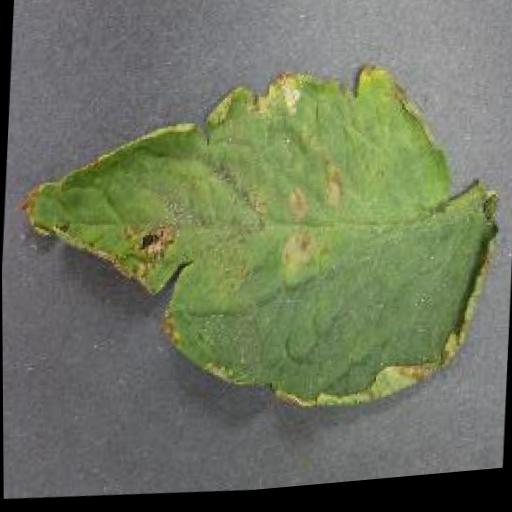Bacterial Spot: (1, 36, 512, 455)
